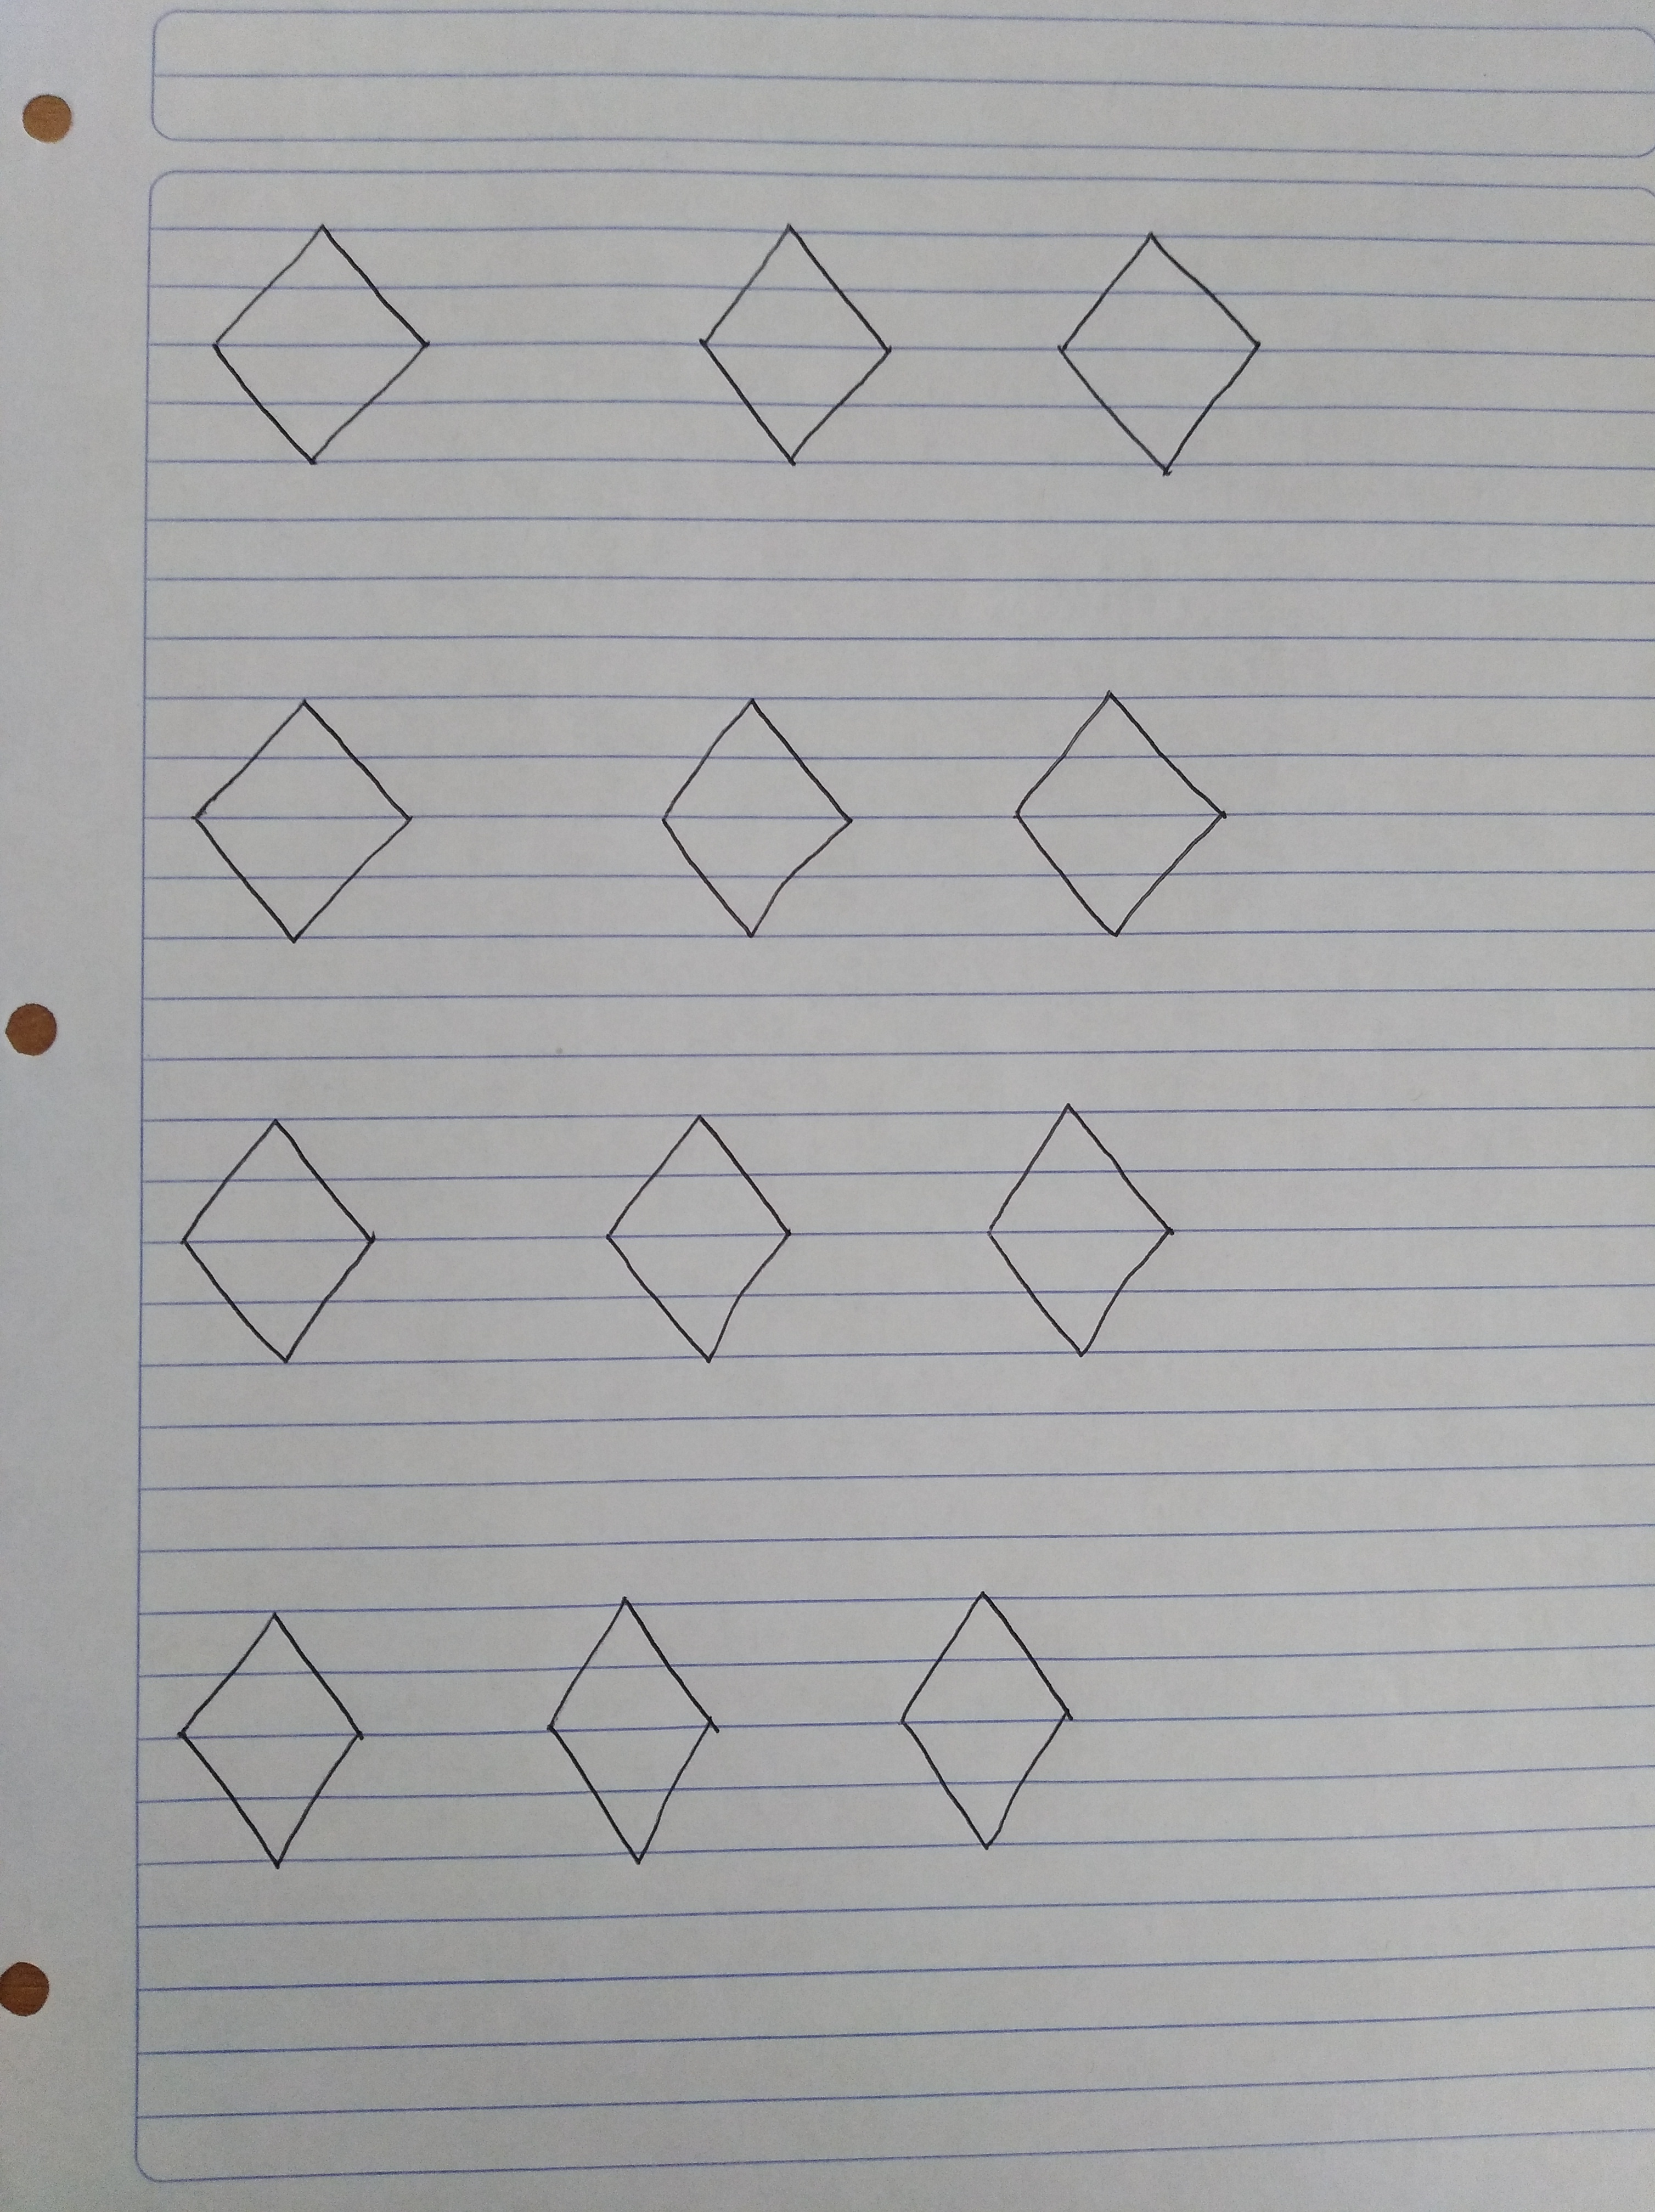decision: (169, 188, 469, 495), (859, 1552, 1111, 1891), (506, 1573, 761, 1899), (167, 671, 447, 966), (151, 1095, 429, 1388), (949, 1077, 1203, 1388), (986, 664, 1245, 964), (150, 1580, 398, 1892), (581, 1088, 831, 1392), (661, 196, 916, 493), (1033, 193, 1274, 500), (636, 669, 878, 977)
